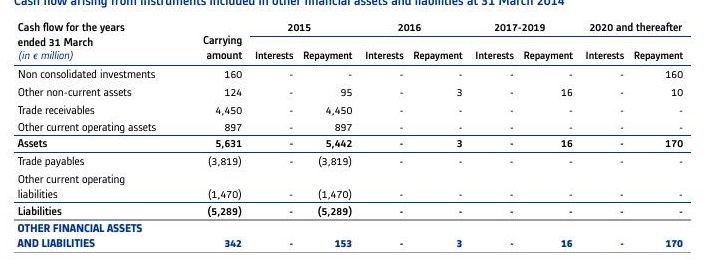table: (0, 0, 707, 267)
